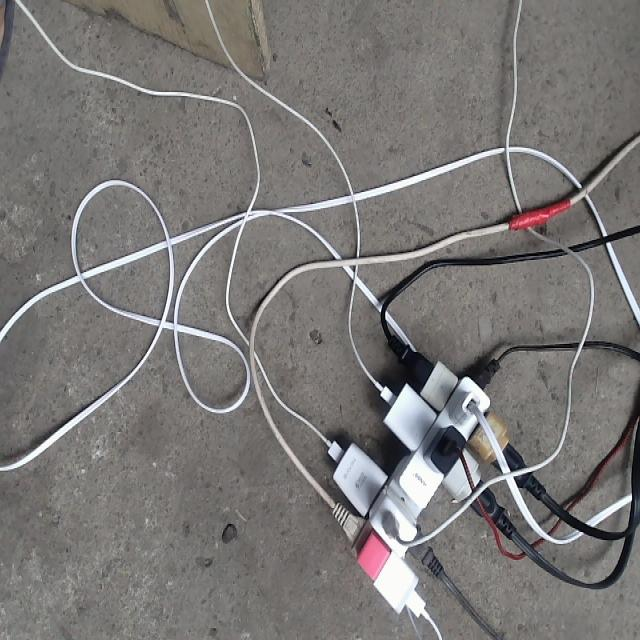-: (330, 353, 513, 618)
